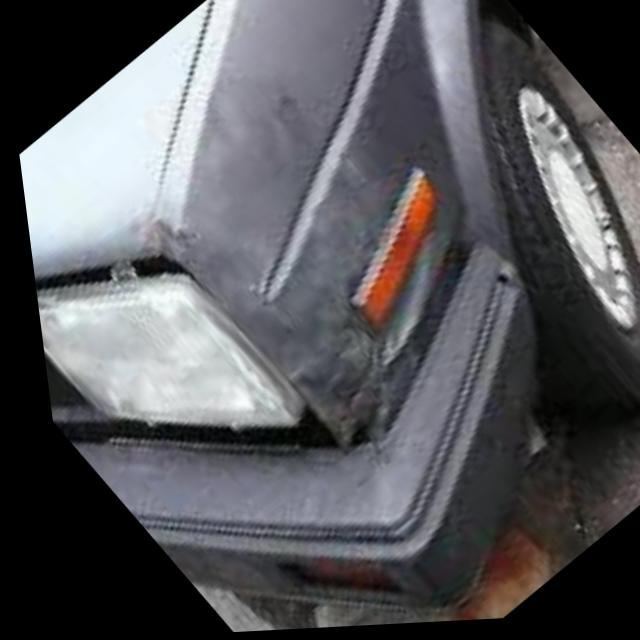dent: (105, 73, 439, 447)
